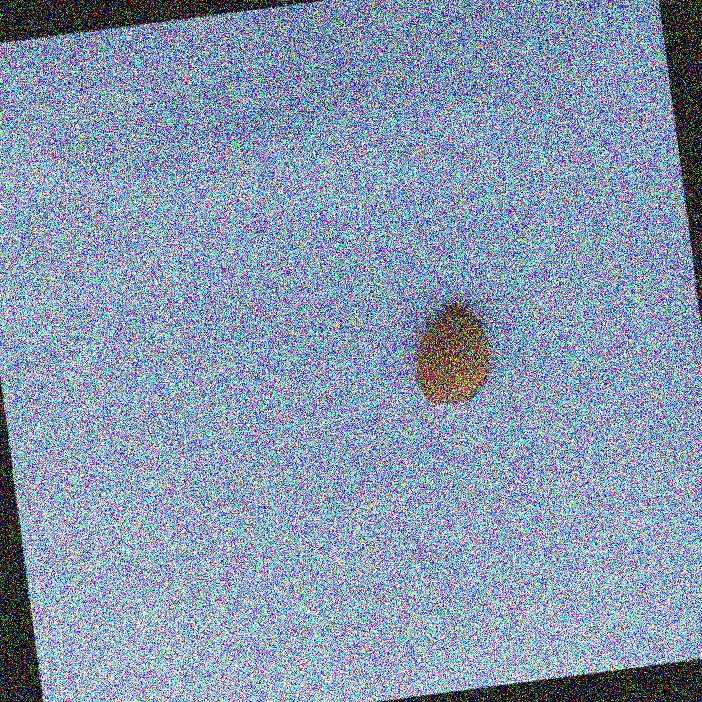grade2: (400, 297, 501, 412)
